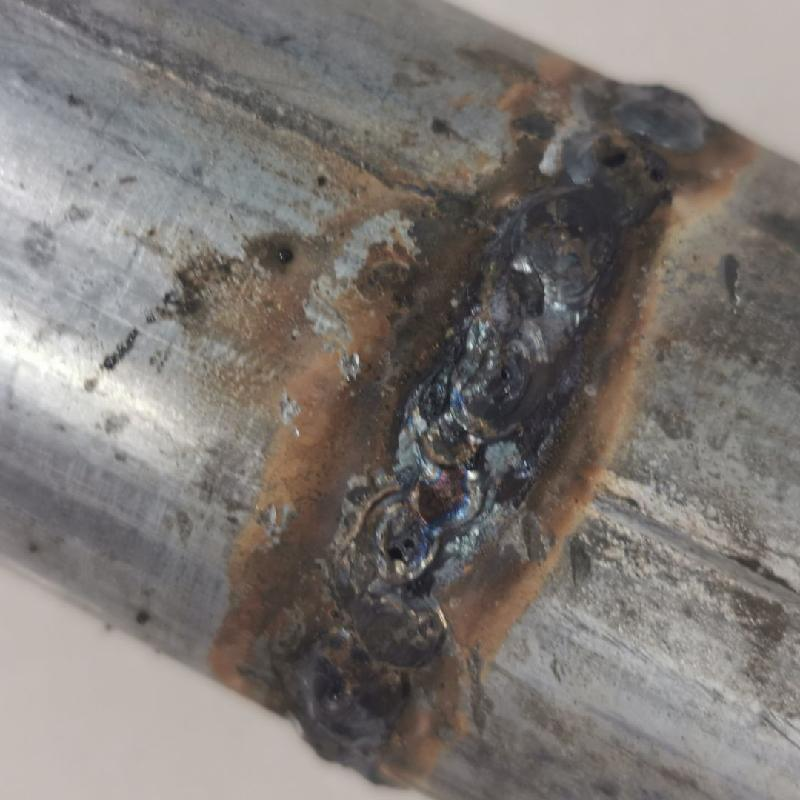Surface_pores: (376, 510, 429, 575), (584, 125, 643, 182)
crater: (372, 320, 524, 587)
wrong_size: (518, 42, 705, 333), (278, 585, 453, 767)
